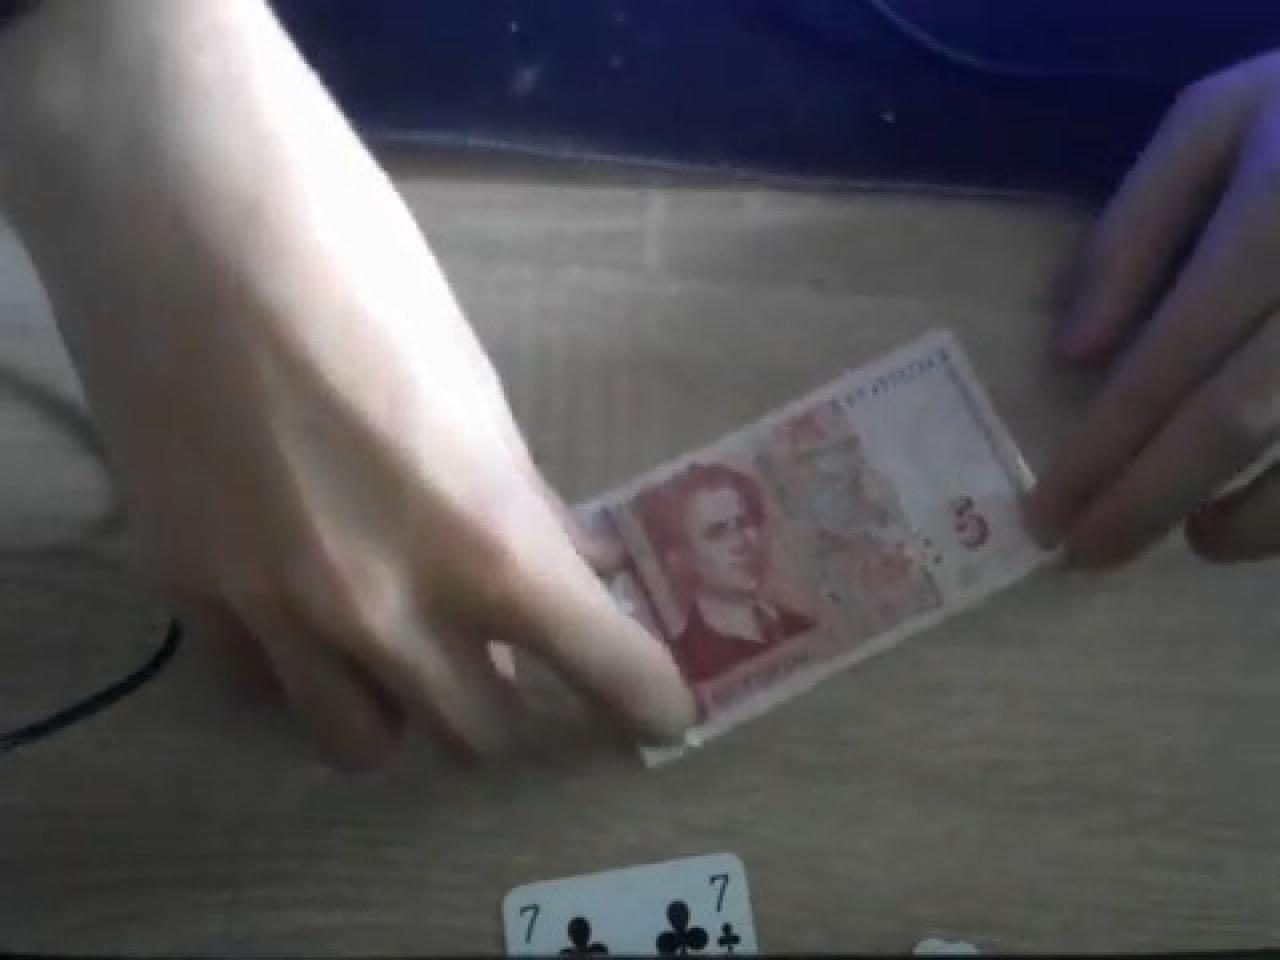5leva: (570, 331, 1061, 765)
